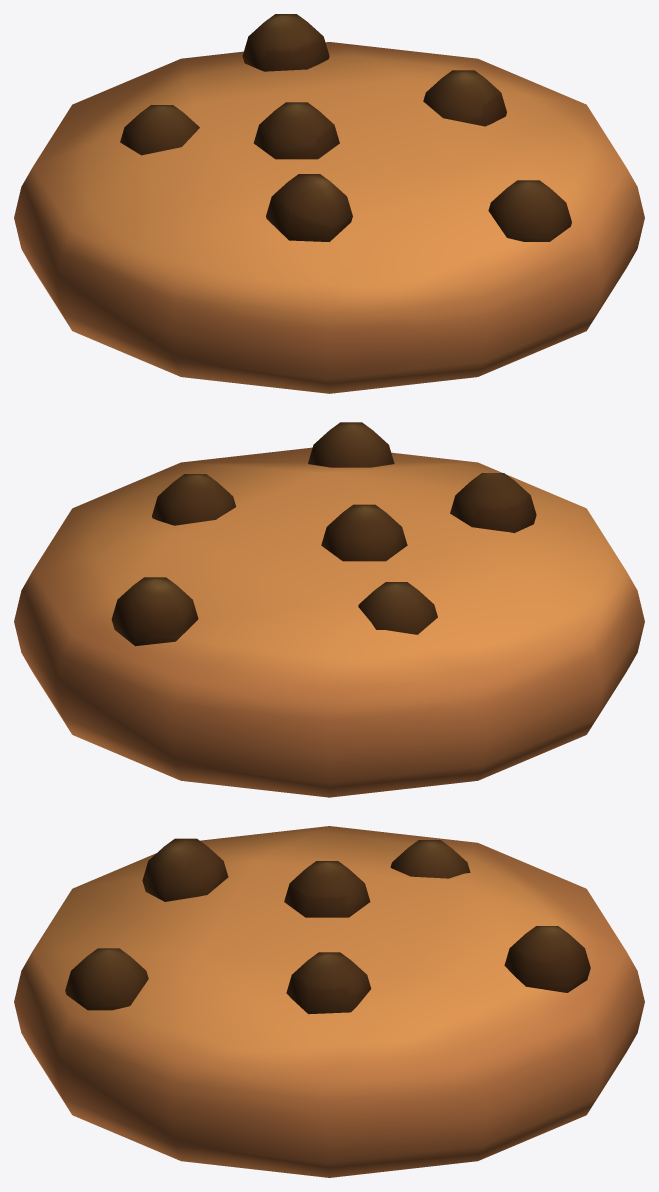
File: Cookie.fbx
3 views of the same model, one above another, from view 1: azimuth 30°, elevation 25°; view 2: azimuth 150°, elevation 25°; view 3: azimuth 270°, elevation 25° (orthographic).
Parts seen in each view (by area): view 1: Cookie; view 2: Cookie; view 3: Cookie.
Boxes of the visible parts, x1,y1,x2,y2 form: Cookie: (14, 14, 644, 393); Cookie: (14, 422, 644, 797); Cookie: (14, 826, 644, 1177).
Bounding box in the file's own units: 8.6 × 3.15 × 8.6.
